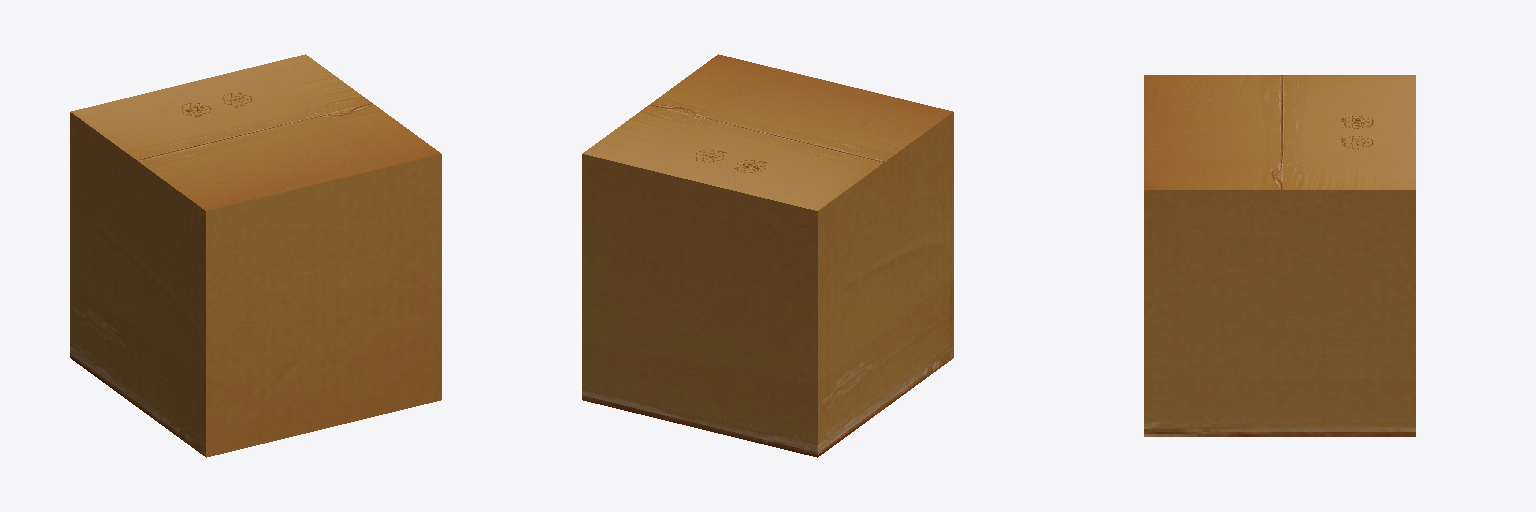
The picture shows the model from 3 angles: view 1: azimuth 30°, elevation 25°; view 2: azimuth 150°, elevation 25°; view 3: azimuth 270°, elevation 25°; orthographic projection.
Parts seen in each view (by area): view 1: Cube; view 2: Cube; view 3: Cube.
Part boxes in pixels (x1,y1,x2,y2): Cube: (70,54,441,457); Cube: (582,54,953,457); Cube: (1144,75,1415,436).
Bounding box in the file's own units: 0.3688 × 0.3688 × 0.3688.
Materials: 1 (1 with a texture image).